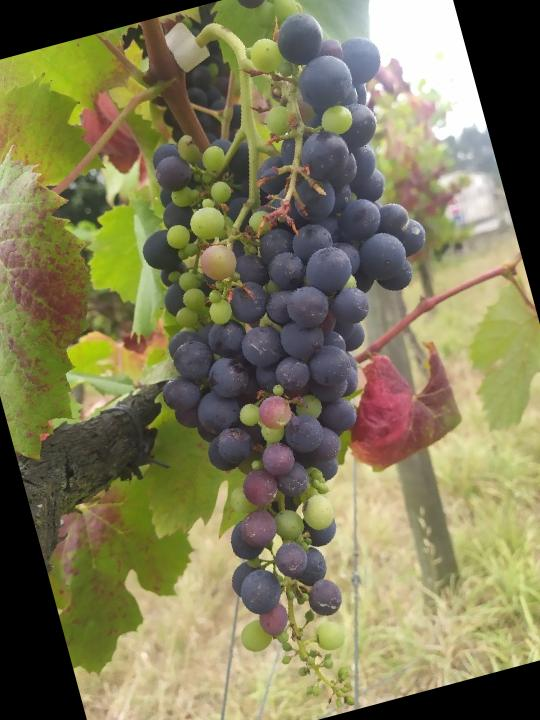grape: (77, 0, 538, 720)
